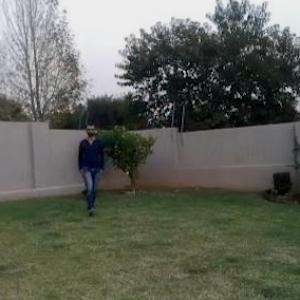follow: (78, 123, 105, 211)
